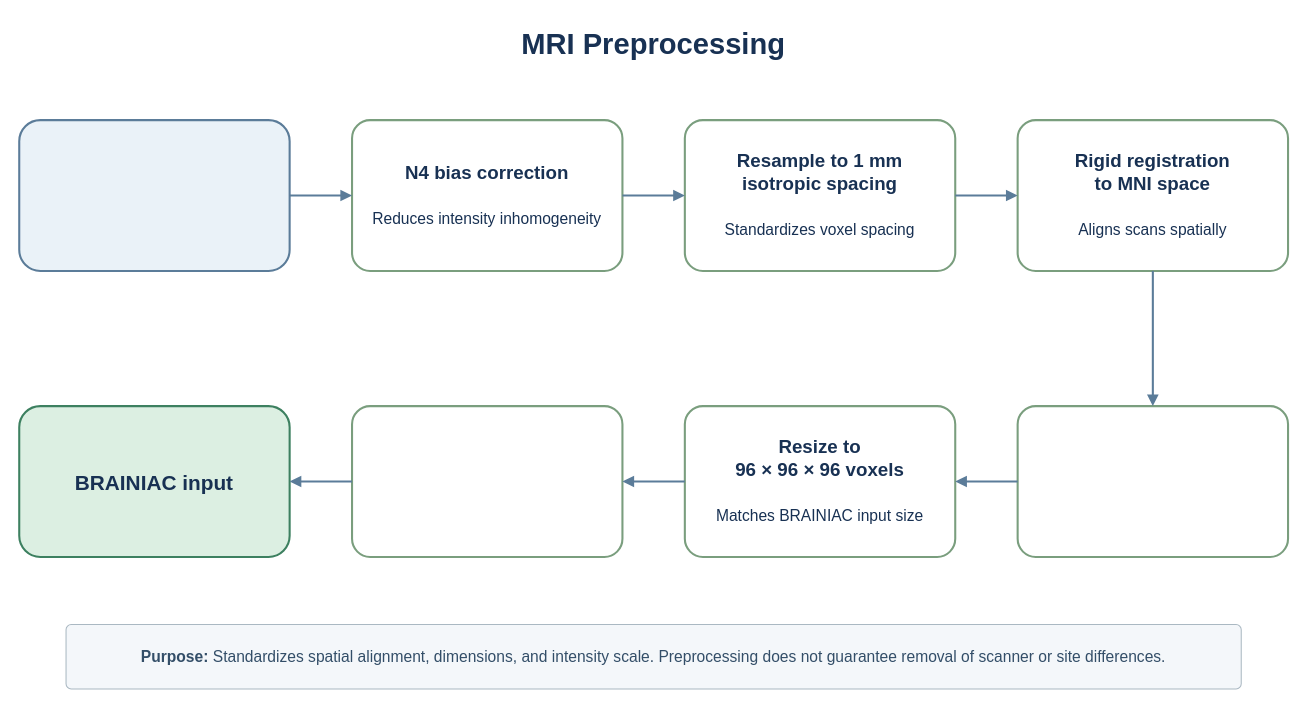
The diagram is 1306 pixels wide and 707 high, and some of its shapes have lost their labels. The shapes that lost their labels are listed below. From the top down, each one's centre as x and y in pixels, then its label:
point 154,195: Raw MRI
point 486,481: Nonzero-voxel z-score normalization Standardizes image intensities
point 1152,481: HD-BET skull stripping Removes non-brain tissue
